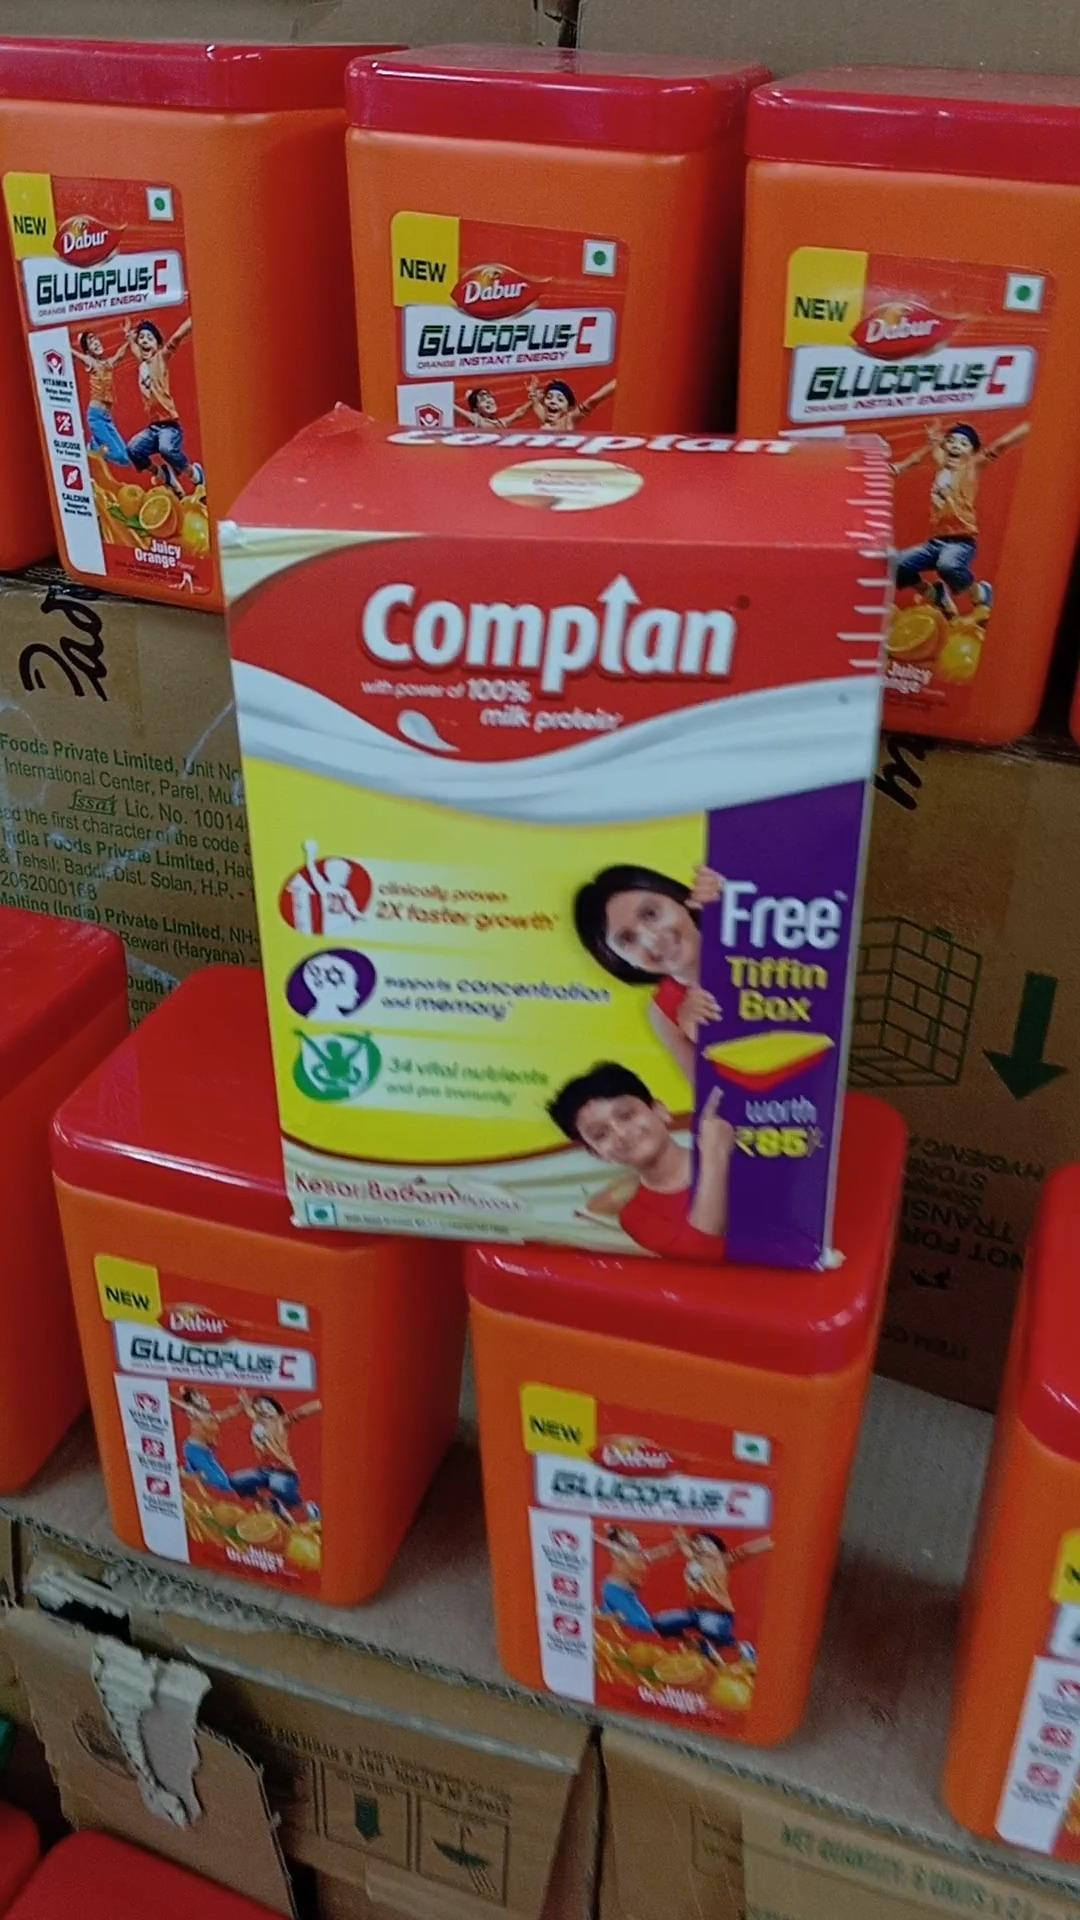COMPLAN_KESAR_BADAM_500_GMS_PACK: (223, 537, 868, 1288)
